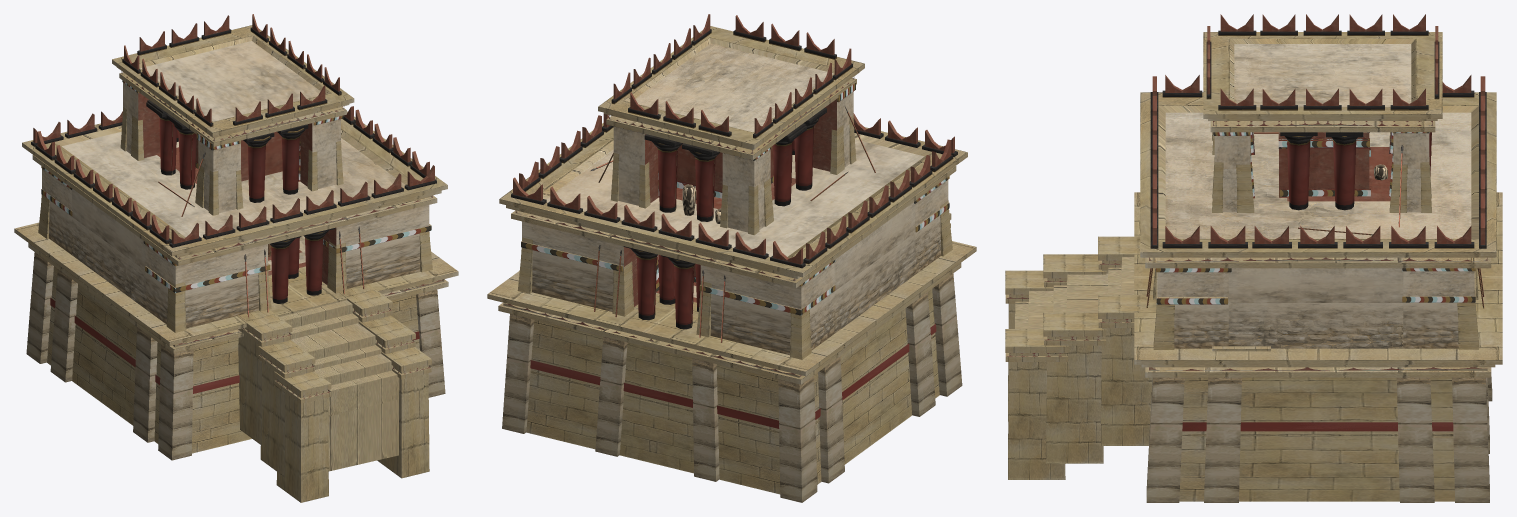
File: mino_fortress.dae
The picture shows the model from 3 angles, left to right: view 1: azimuth 30°, elevation 25°; view 2: azimuth 150°, elevation 25°; view 3: azimuth 270°, elevation 25°; orthographic projection. The views are drawn at different scales.
Parts seen in each view (by area): view 1: Cube_006.007; view 2: Cube_006.007; view 3: Cube_006.007.
Boxes of the visible parts, left/top/right/bottom form: Cube_006.007: left=14, top=14, right=458, bottom=502; Cube_006.007: left=487, top=14, right=976, bottom=502; Cube_006.007: left=1005, top=14, right=1502, bottom=502.
Size of the model in its own units: 28.64 by 35.93 by 31.14.
